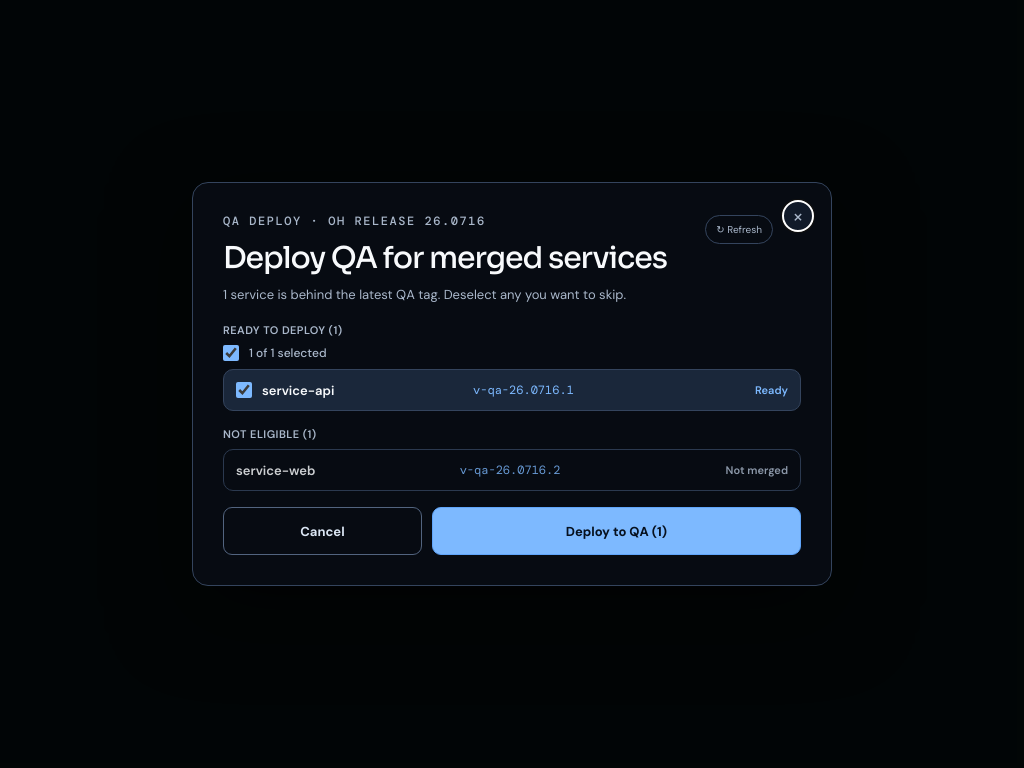
Test: BulkQaDeployDialog › queues QA deployments for eligible merged services
The width and height of the screenshot is (1024, 768).
Expected: the text "service-api" is shown, [262,382,334,399]
Expected: the text "Ready" is shown, [755,383,788,397]
Step 1. Click the button "Deploy to QA (1)" → (616, 531), box [432,507,801,555]
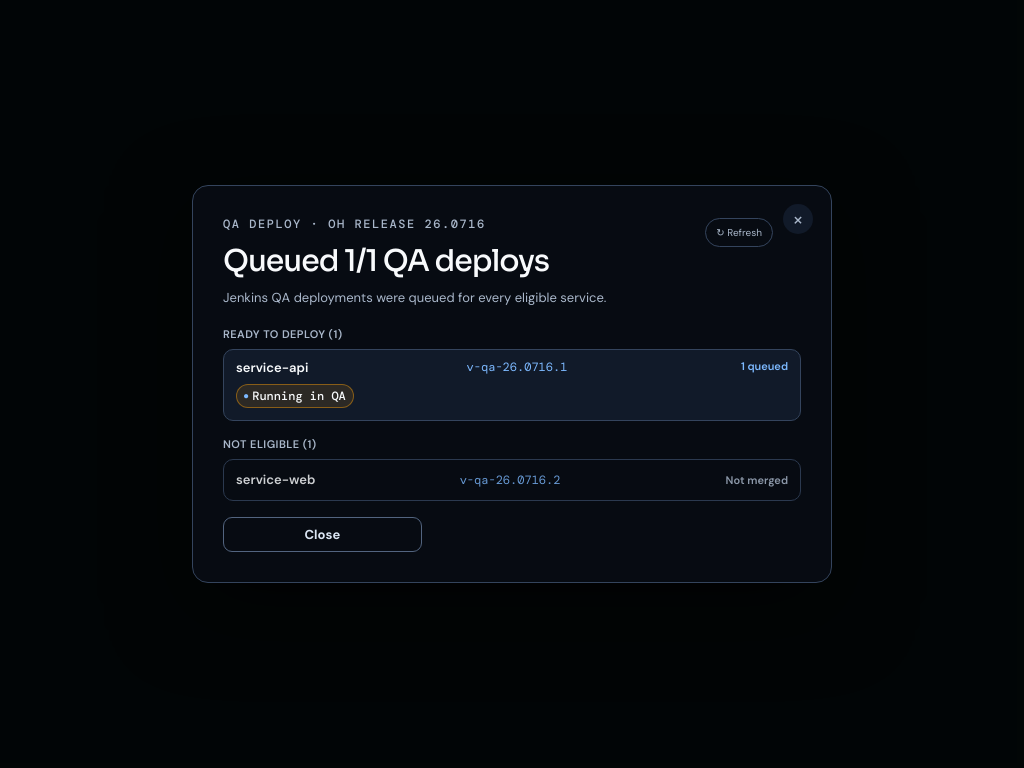
Expected: the heading "Queued 1/1 QA deploys" is shown, [223,242,549,280]
